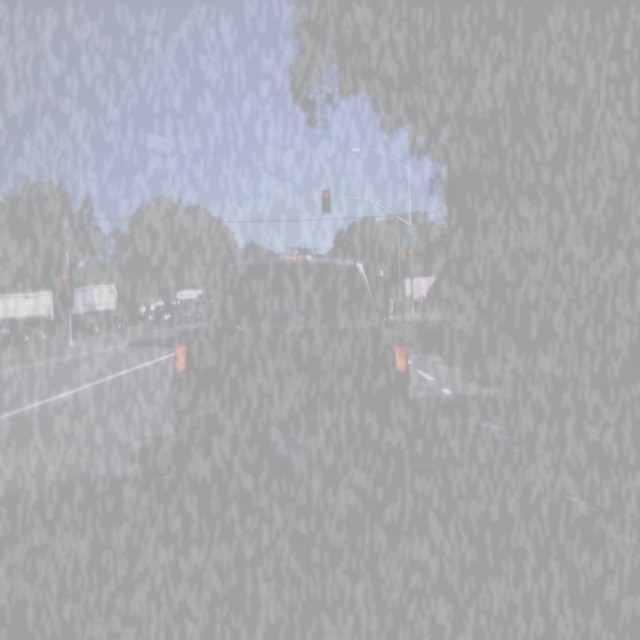stop: (324, 194, 328, 198), (409, 251, 411, 253)
stop left: (63, 272, 71, 282)
stop left traffic light: (56, 267, 78, 311)
stop traffic light: (321, 192, 331, 210), (407, 250, 413, 262)
